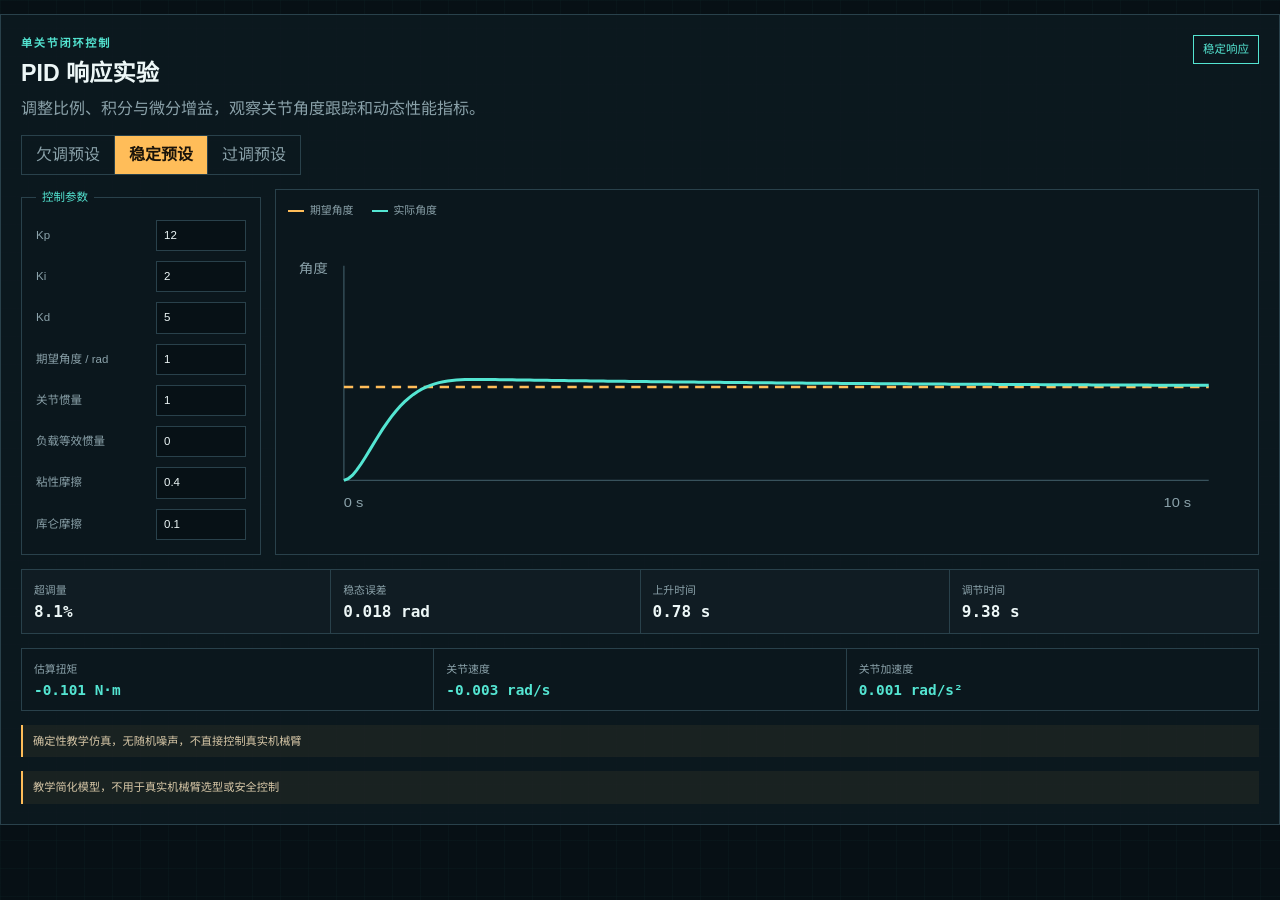
Test: PID control teaching lab › loads stable, under-tuned, and over-tuned presets and recalculates the response
Step 1. Click the button "过调预设" → point(254, 155), box [208,136,300,174]
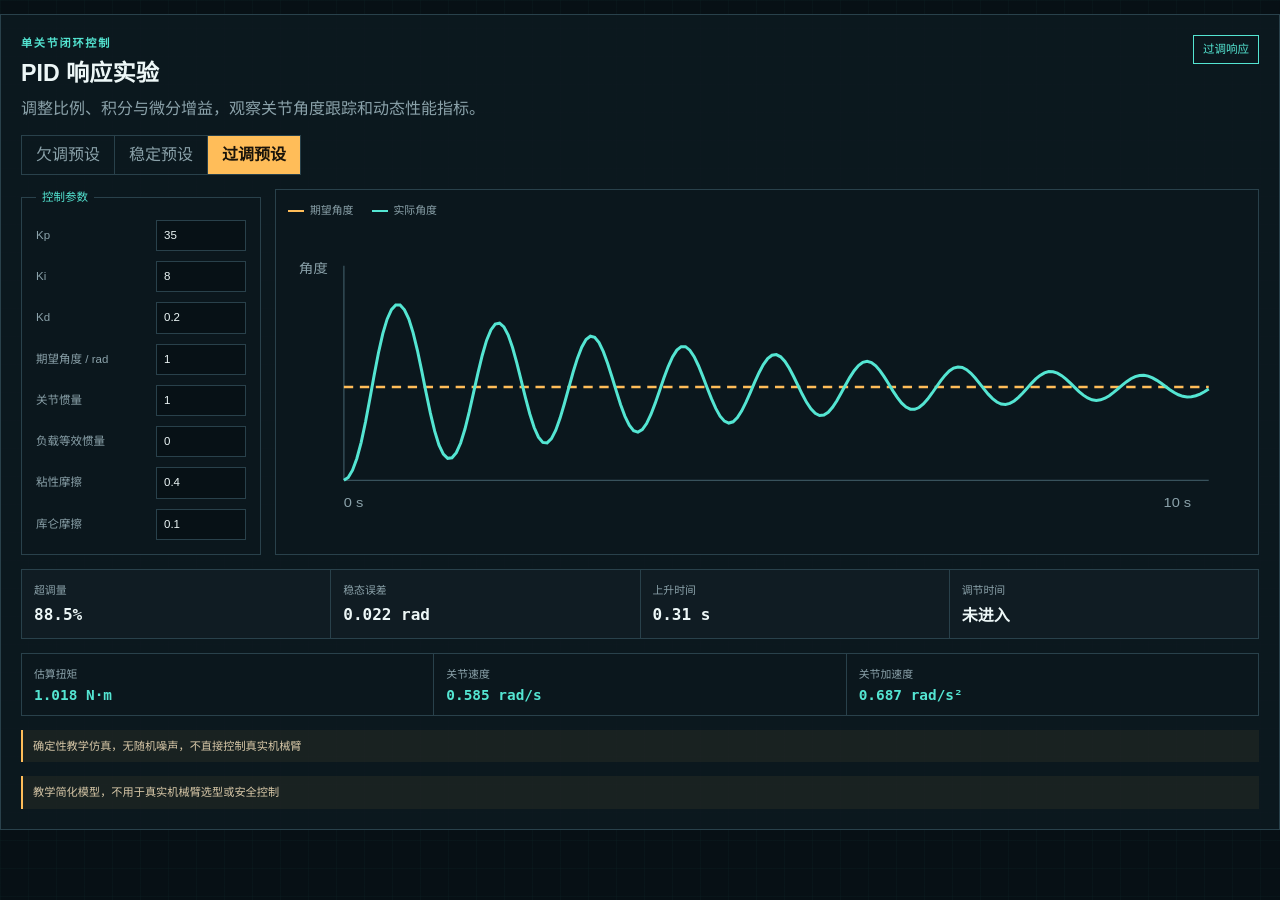
Check: the number field labelled "Ki" holds "8", box [156,261,246,292]
Check: the number field labelled "Kp" holds "35", box [156,220,246,251]
Check: the message named "响应类型" reads "过调响应", box [1203,43,1249,55]
Step 2. Click the button "欠调预设" → point(68, 155), box [22,136,115,174]
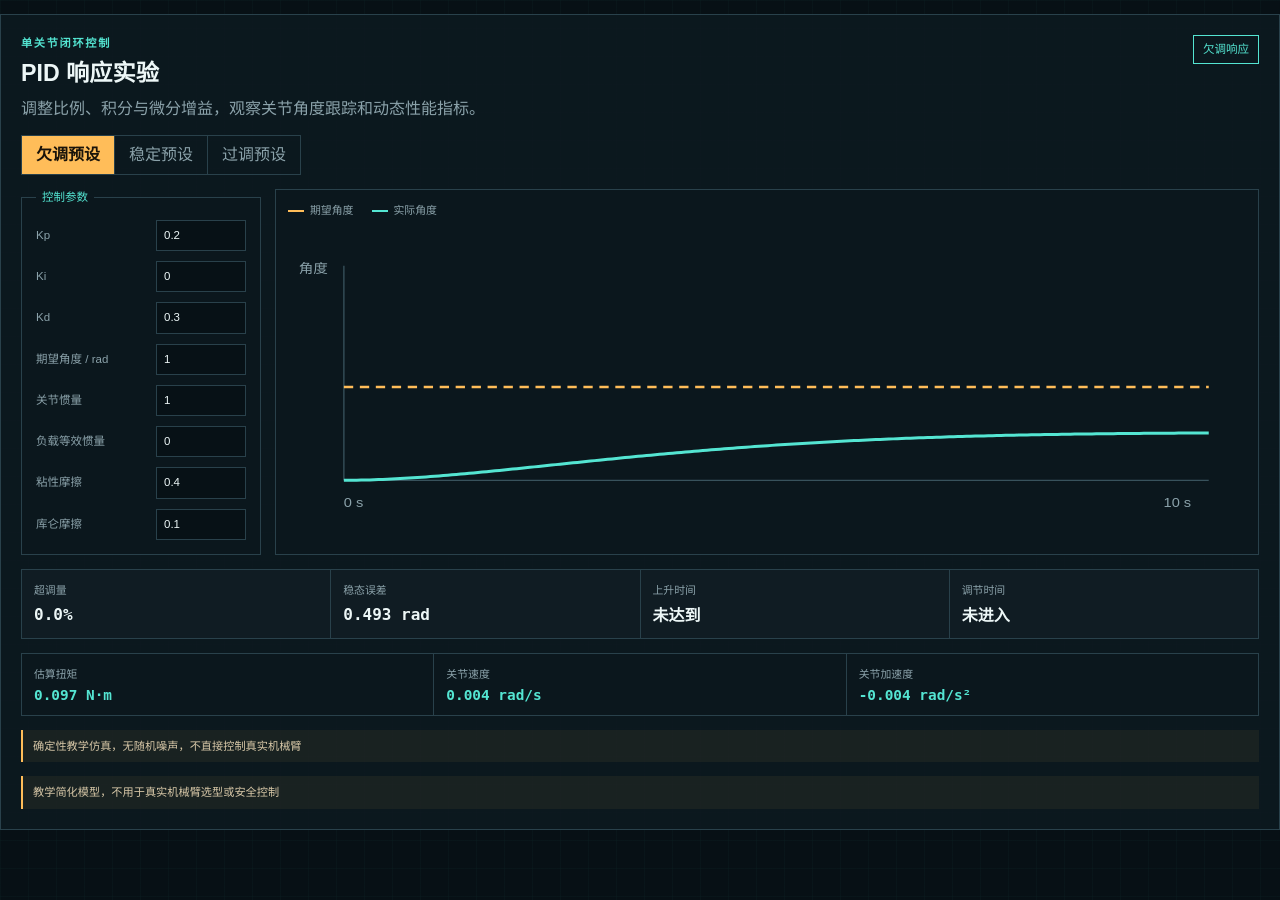
Check: the number field labelled "Kp" holds "0.2", box [156,220,246,251]
Check: the message named "响应类型" reads "欠调响应", box [1203,43,1249,55]
Step 3. Click the button "稳定预设" → point(162, 155), box [115,136,208,174]
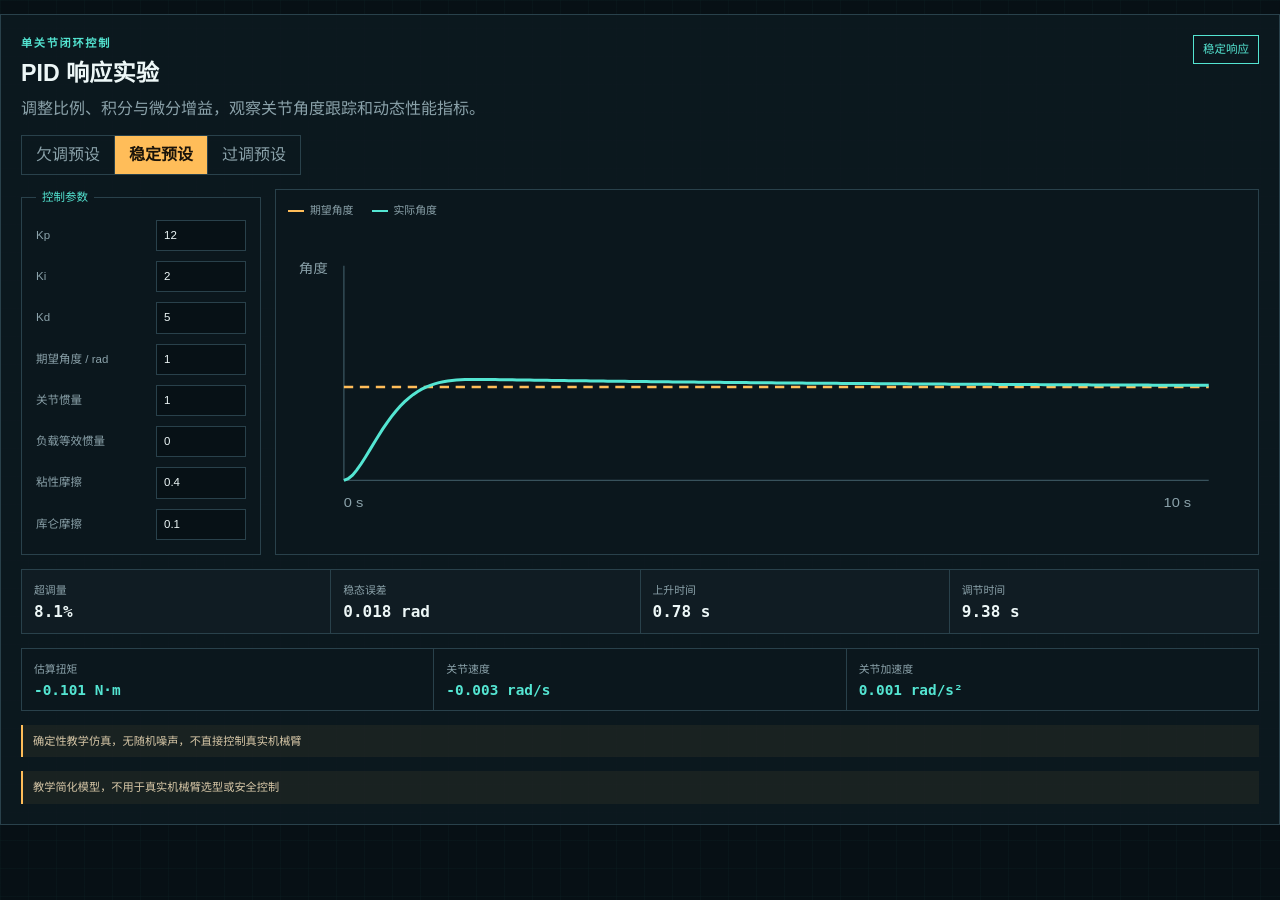
Check: the message named "响应类型" reads "稳定响应", box [1203,43,1249,55]
